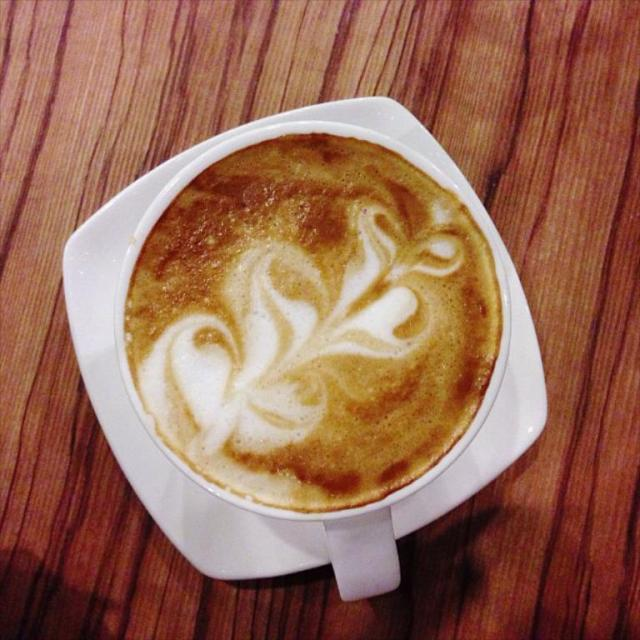Coffee: (95, 123, 533, 557)
